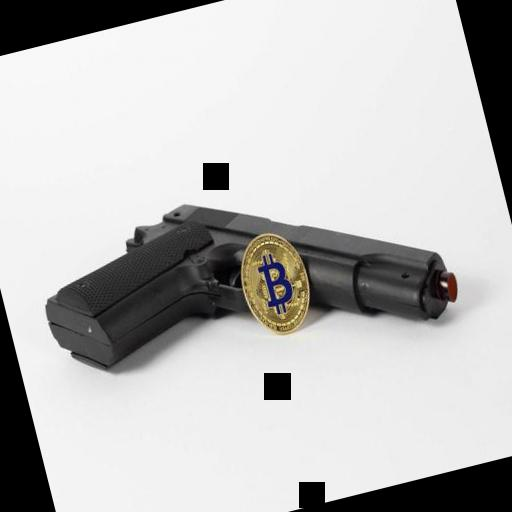Handgun: (22, 138, 466, 424)
